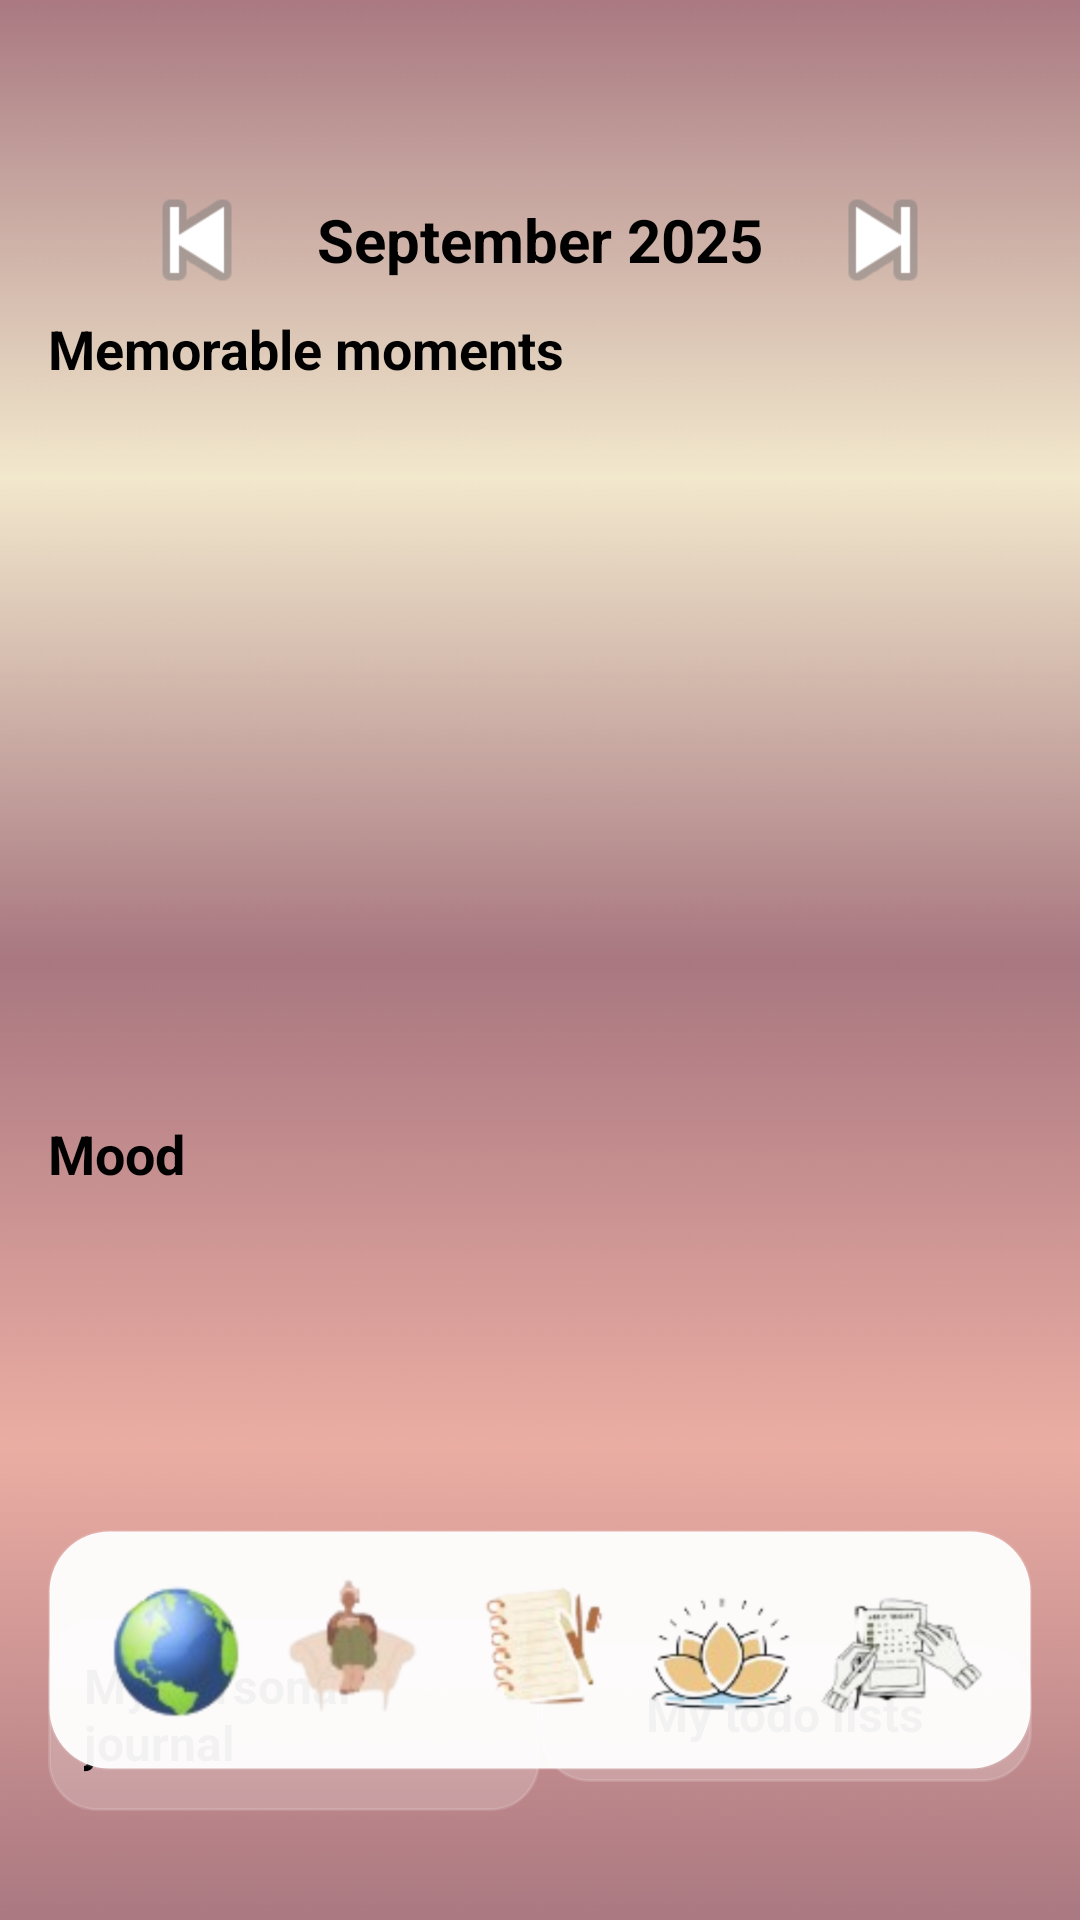

Screen size 1080w x 1920h. Icon name, then its box in pixels as BBox(x1, y1, x2, y2):
divertissement: BBox(290, 1580, 415, 1708)
habits: BBox(822, 1598, 982, 1713)
travels: BBox(113, 1587, 239, 1716)
